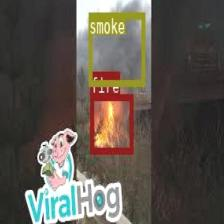fire: (90, 93, 132, 152)
smoke: (88, 12, 145, 86)
